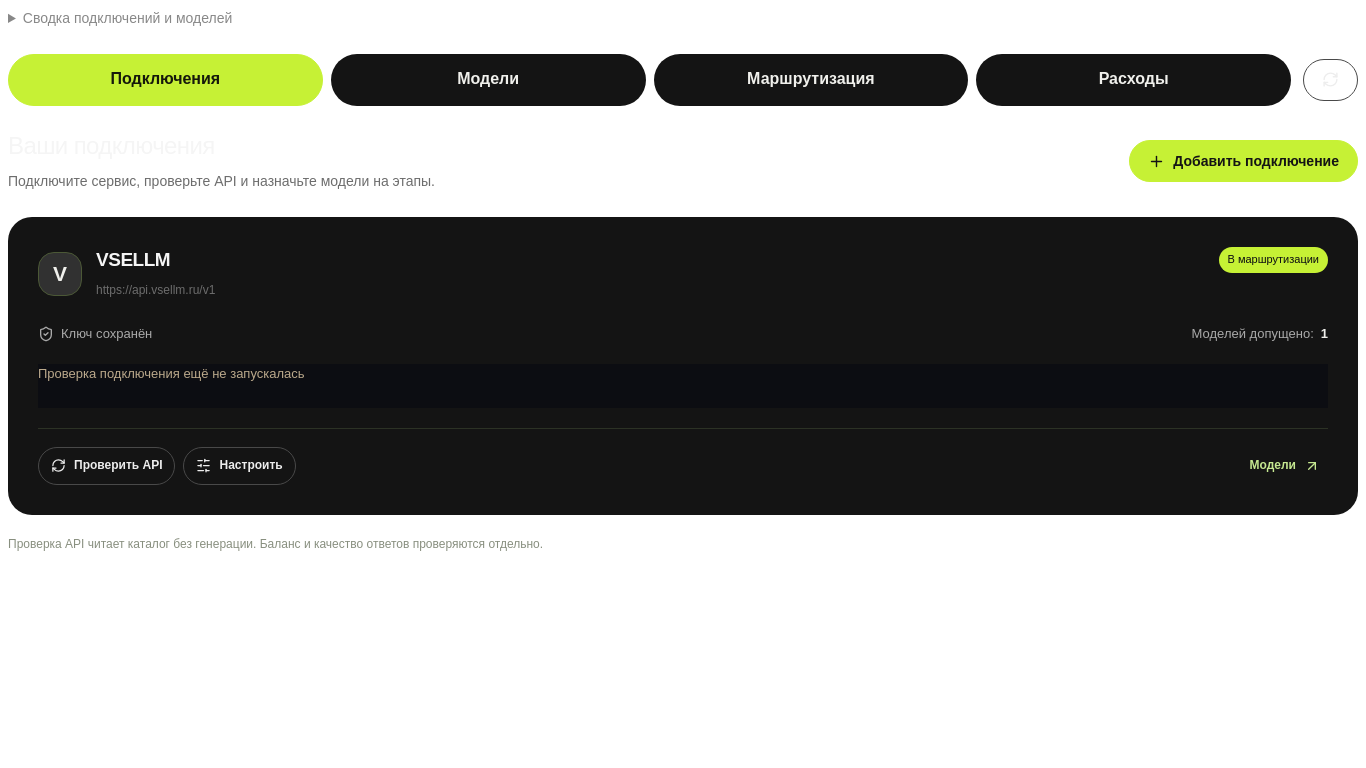
it: filters models and keeps other AI sections out of the current workflow
Expected: the heading "Модели и этапы генерации" is not shown
Click the 1st button "Модели" at (488, 80), box [331,54,646,106]
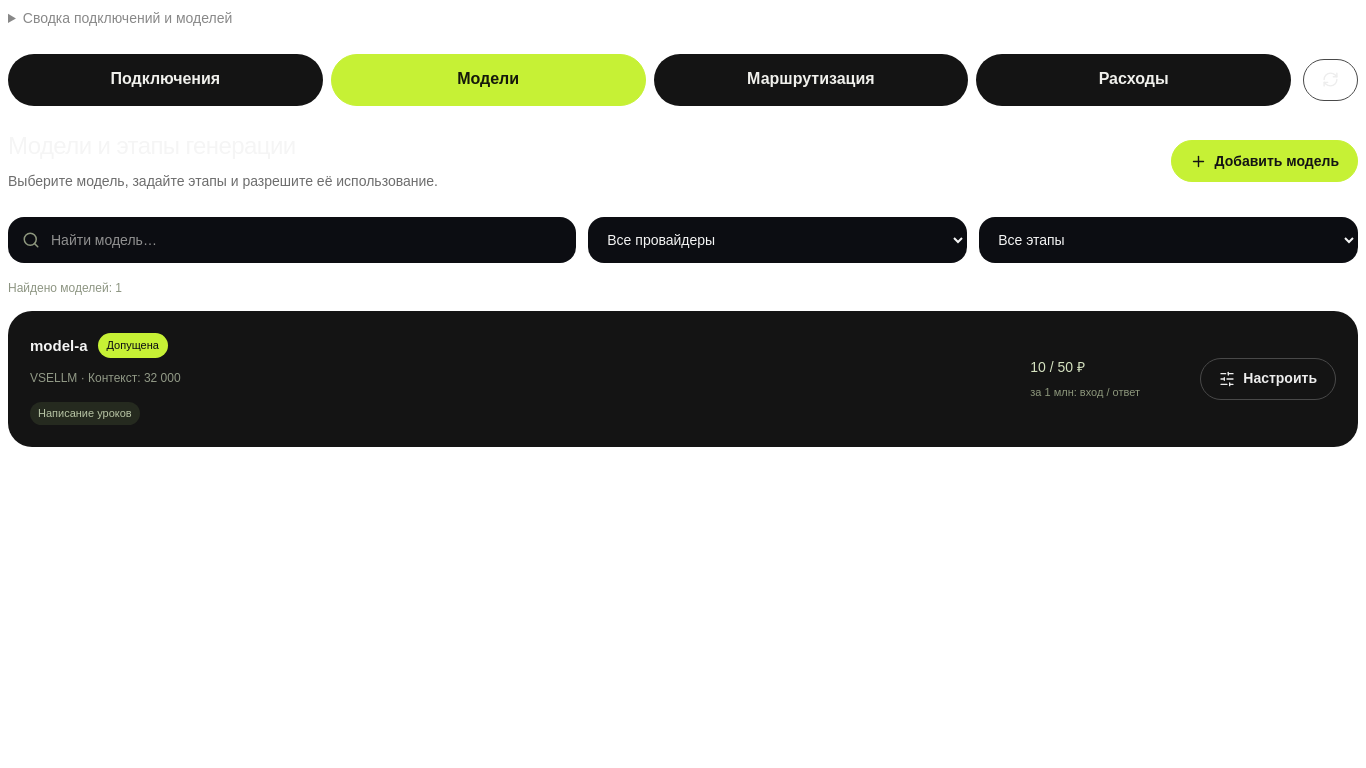
Type "absent" into the search field named "Поиск модели" at (292, 240), box [8,217,576,263]
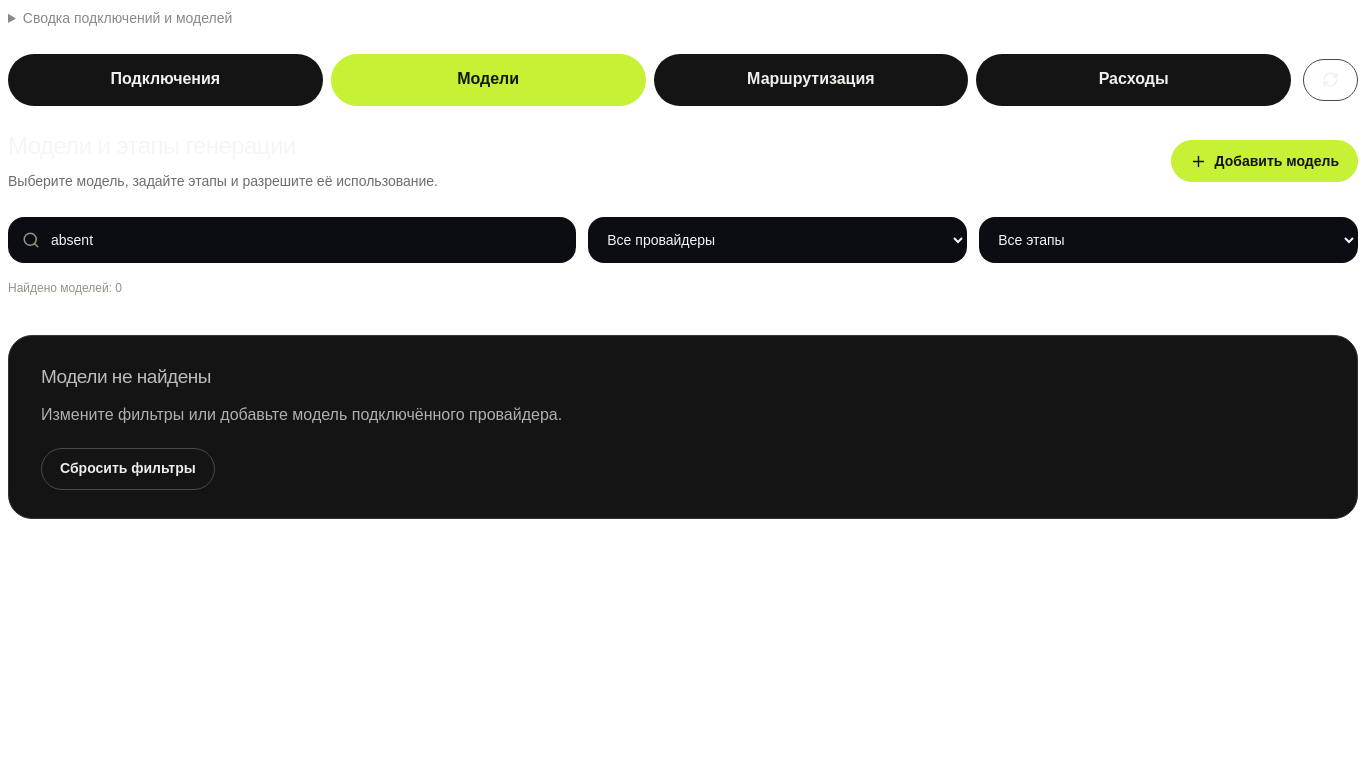
Result: the heading "Модели не найдены" is shown at [41,366,211,387]
Click the button "Сбросить фильтры" at (128, 469), box [41,448,215,490]
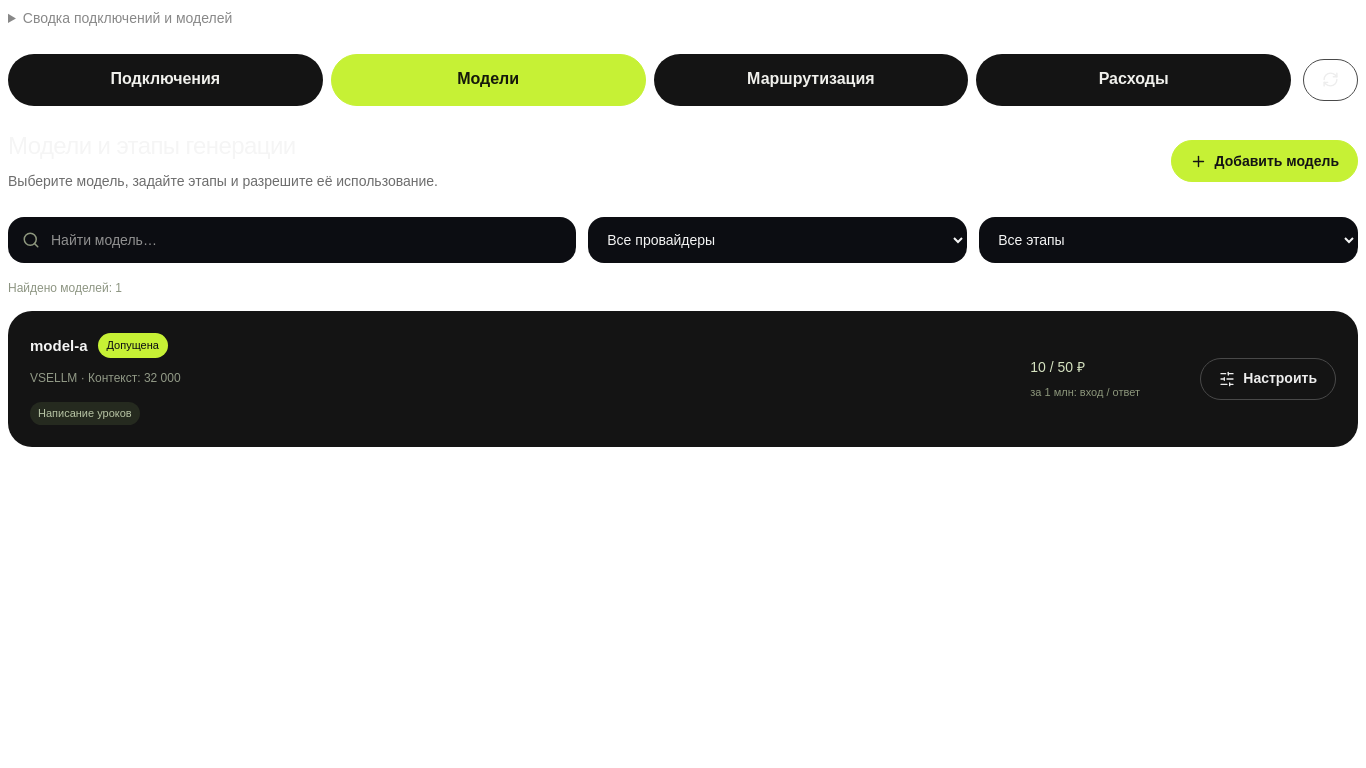
Result: the button with aria-label "Настроить модель model-a vsellm" is shown at [1200,358,1336,400]
Click the button "Расходы" at (1134, 80), box [976,54,1291,106]
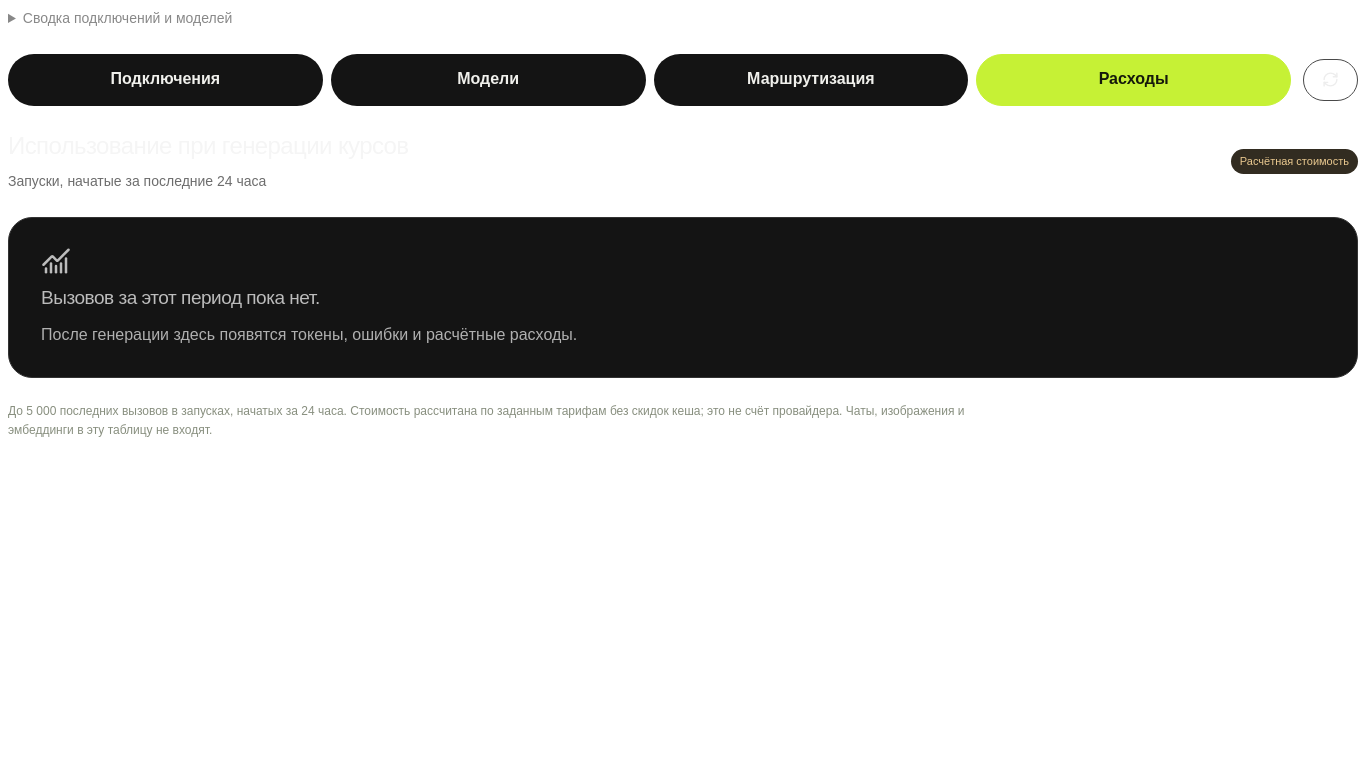
Result: the heading "Вызовов за этот период пока нет." is shown at [41,287,320,308]
